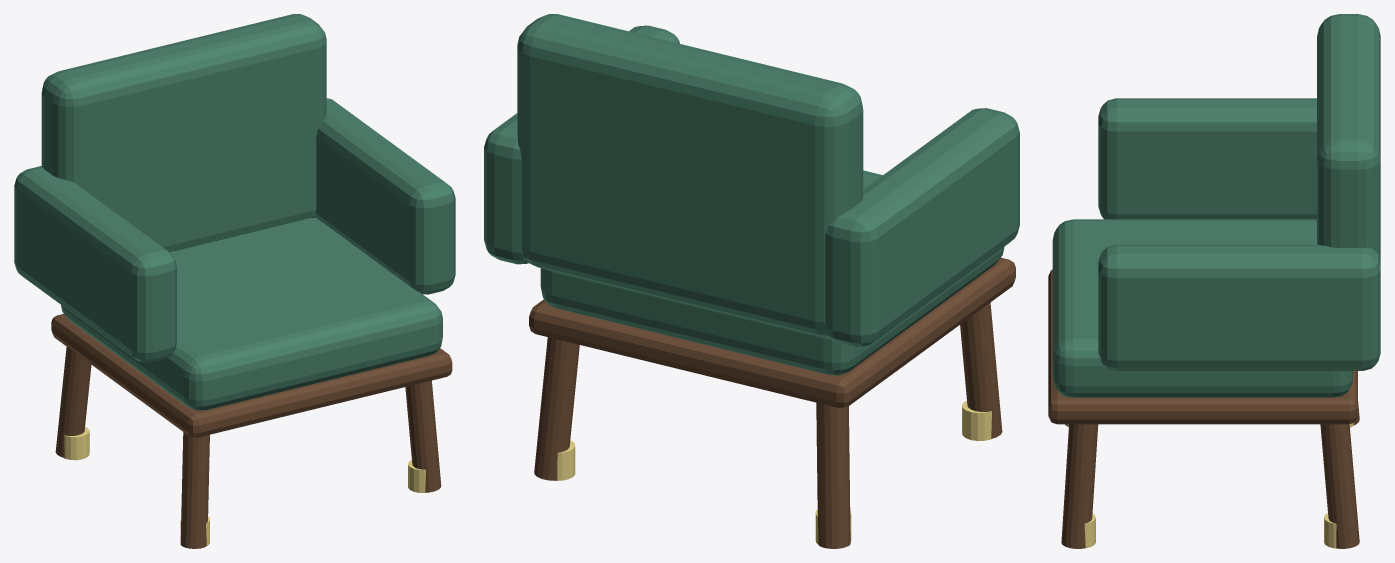
The model's file is club_chair.glb.
3 renders of one model, left to right at view 1: azimuth 30°, elevation 25°; view 2: azimuth 150°, elevation 25°; view 3: azimuth 270°, elevation 25°, orthographic. The views are drawn at different scales.
Visible parts, largest first — view 1: Backrest_Main, SeatCushion, Armrest_L, Armrest_R, SeatBase, Leg_FL, Leg_FR, Leg_BL, Ferrule_Leg_BL; view 2: Backrest_Main, Armrest_L, SeatBase, SeatCushion, Armrest_R, Leg_BL, Leg_BR, Leg_FL, Ferrule_Leg_FL; view 3: Armrest_R, Armrest_L, SeatCushion, Backrest_Main, SeatBase, Leg_FR, Leg_BR.
Part boxes in pixels (<box>): Backrest_Main: <box>41,14,326,252</box>; SeatCushion: <box>61,217,442,410</box>; Armrest_L: <box>14,166,176,362</box>; Armrest_R: <box>316,98,455,294</box>; SeatBase: <box>51,314,452,437</box>; Leg_FL: <box>180,432,209,548</box>; Leg_FR: <box>405,380,441,492</box>; Leg_BL: <box>55,347,91,457</box>; Ferrule_Leg_BL: <box>64,427,89,460</box>; Backrest_Main: <box>517,14,863,336</box>; Armrest_L: <box>825,108,1019,346</box>; SeatBase: <box>529,257,1015,407</box>; SeatCushion: <box>540,170,1004,375</box>; Armrest_R: <box>484,25,679,264</box>; Leg_BL: <box>816,402,850,548</box>; Leg_BR: <box>534,337,579,480</box>; Leg_FL: <box>960,302,1002,438</box>; Ferrule_Leg_FL: <box>962,400,991,440</box>; Armrest_R: <box>1098,244,1380,370</box>; Armrest_L: <box>1098,98,1316,219</box>; SeatCushion: <box>1052,219,1353,397</box>; Backrest_Main: <box>1317,14,1380,261</box>; SeatBase: <box>1048,269,1357,424</box>; Leg_FR: <box>1061,424,1098,548</box>; Leg_BR: <box>1320,424,1359,548</box>.
Bounding box in the file's own units: 0.88 × 0.9824 × 0.73.
